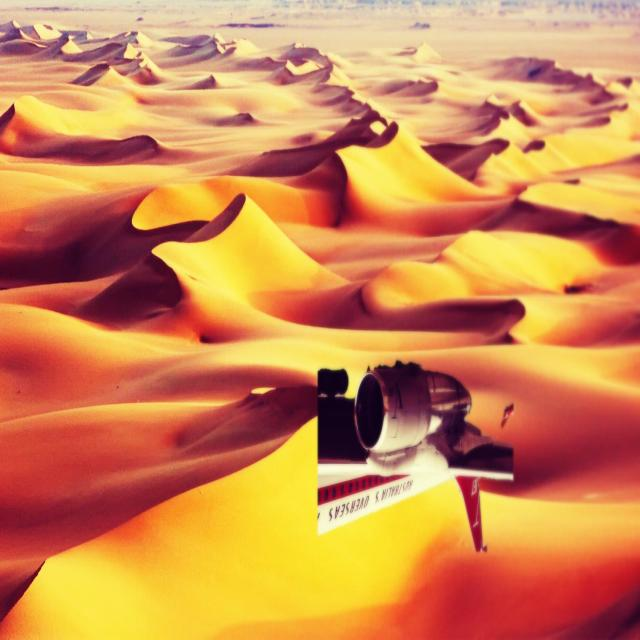airplane: (318, 365, 515, 554)
